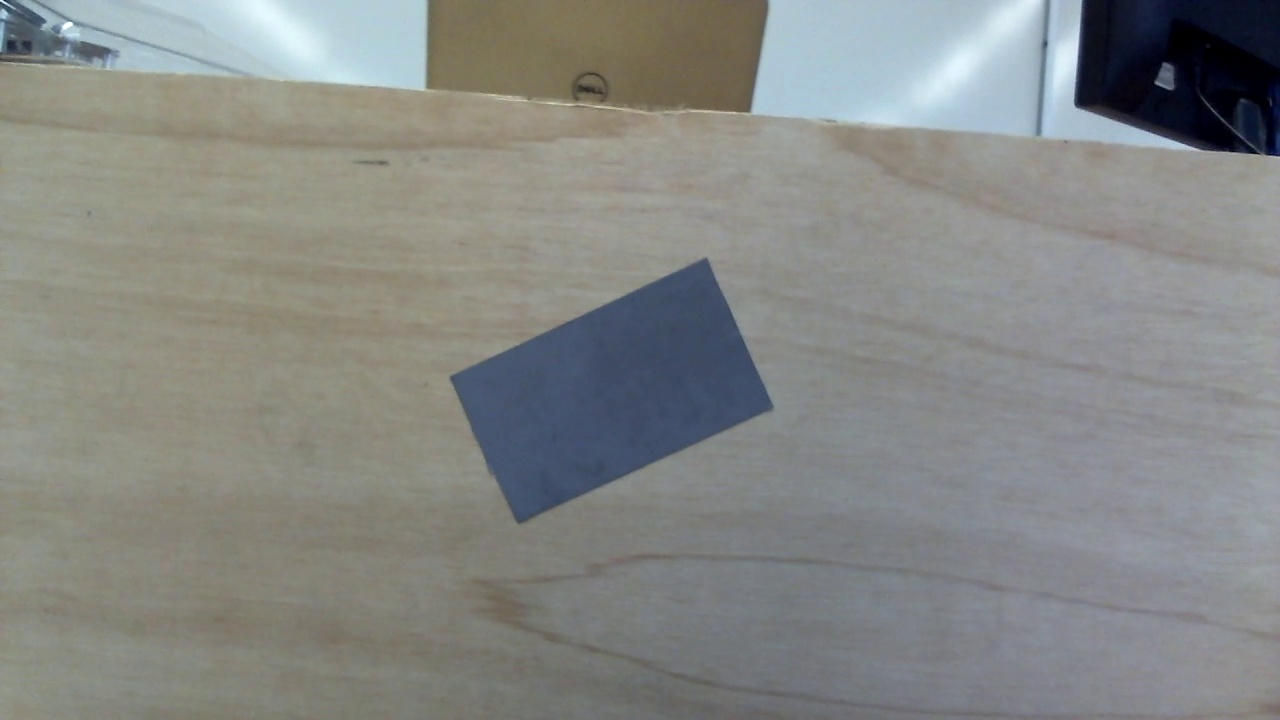Tape: (449, 259, 776, 530)
